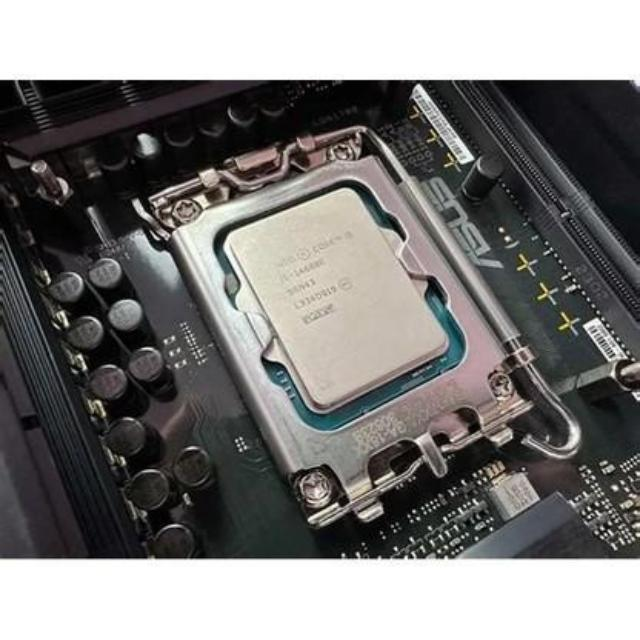CPU: (224, 190, 468, 432)
